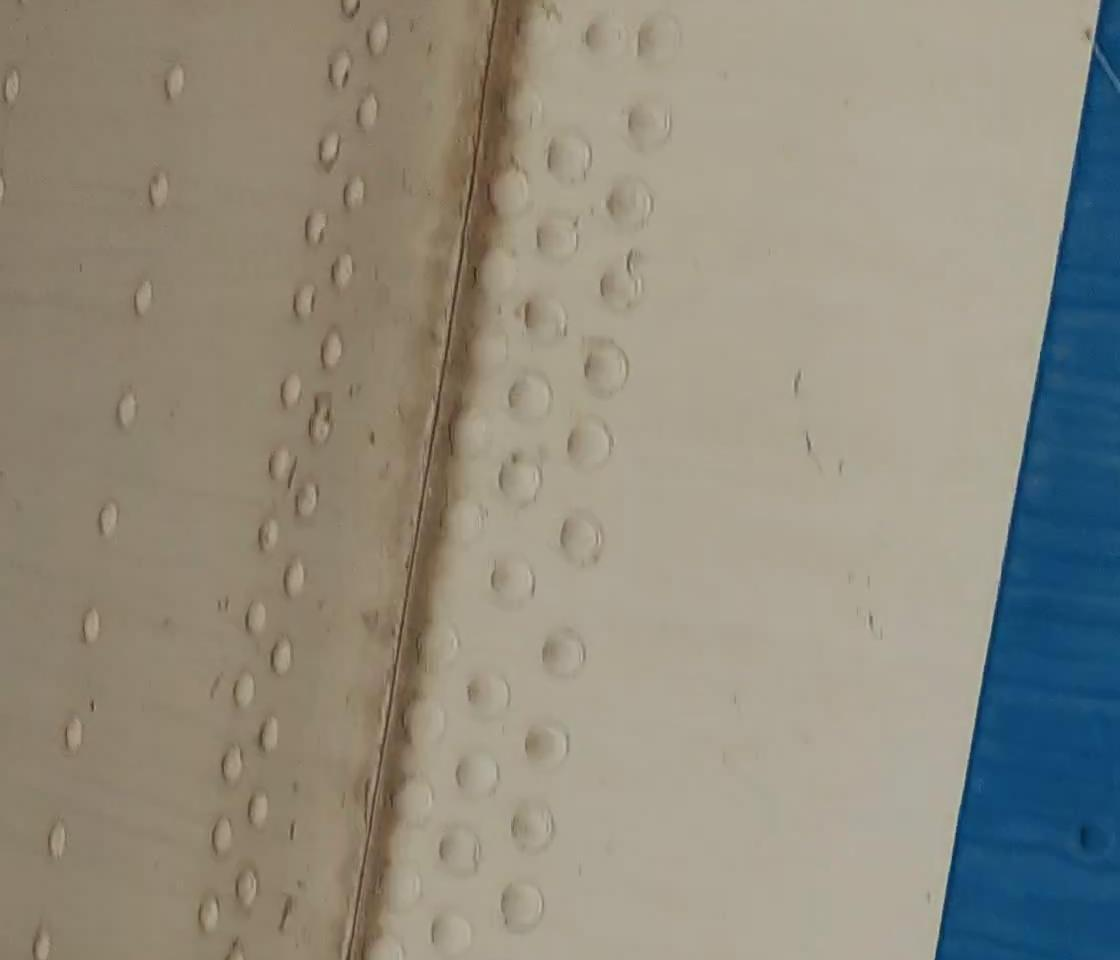scratch: (784, 365, 810, 403), (799, 424, 819, 463)
